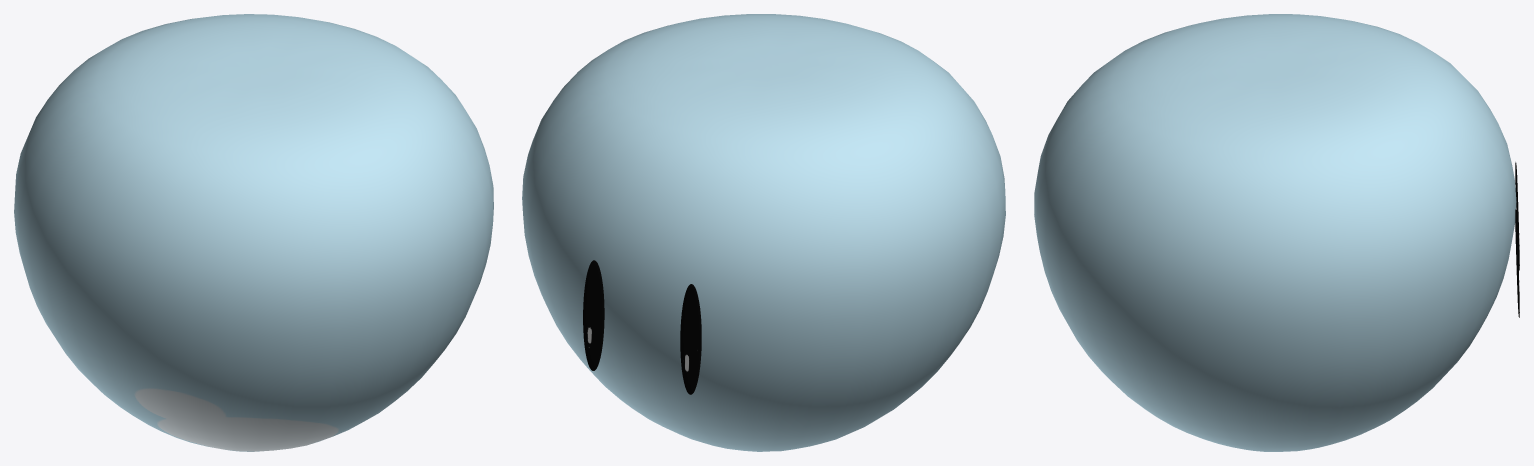
The model's file is korokoro  1.fbx.
3 views of the same model, side by side, from view 1: azimuth 30°, elevation 25°; view 2: azimuth 150°, elevation 25°; view 3: azimuth 270°, elevation 25° (orthographic).
Visible parts, largest first — view 1: pCylinder3; view 2: pCylinder3; view 3: pCylinder3.
Part boxes in pixels (x1,y1,x2,y2): pCylinder3: (14,14,493,451); pCylinder3: (522,14,1005,451); pCylinder3: (1034,14,1519,451).
Bounding box in the file's own units: 1.22 × 1.05 × 1.23.
Materials: 2 (2 with a texture image).
